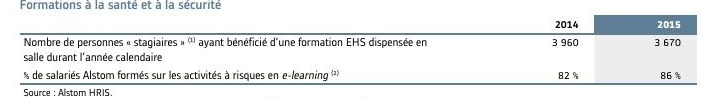table: (0, 0, 720, 97)
